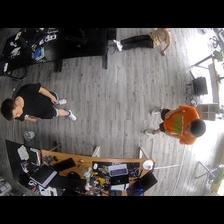fall: (111, 27, 173, 55)
normal: (3, 82, 77, 128), (148, 104, 206, 146)
